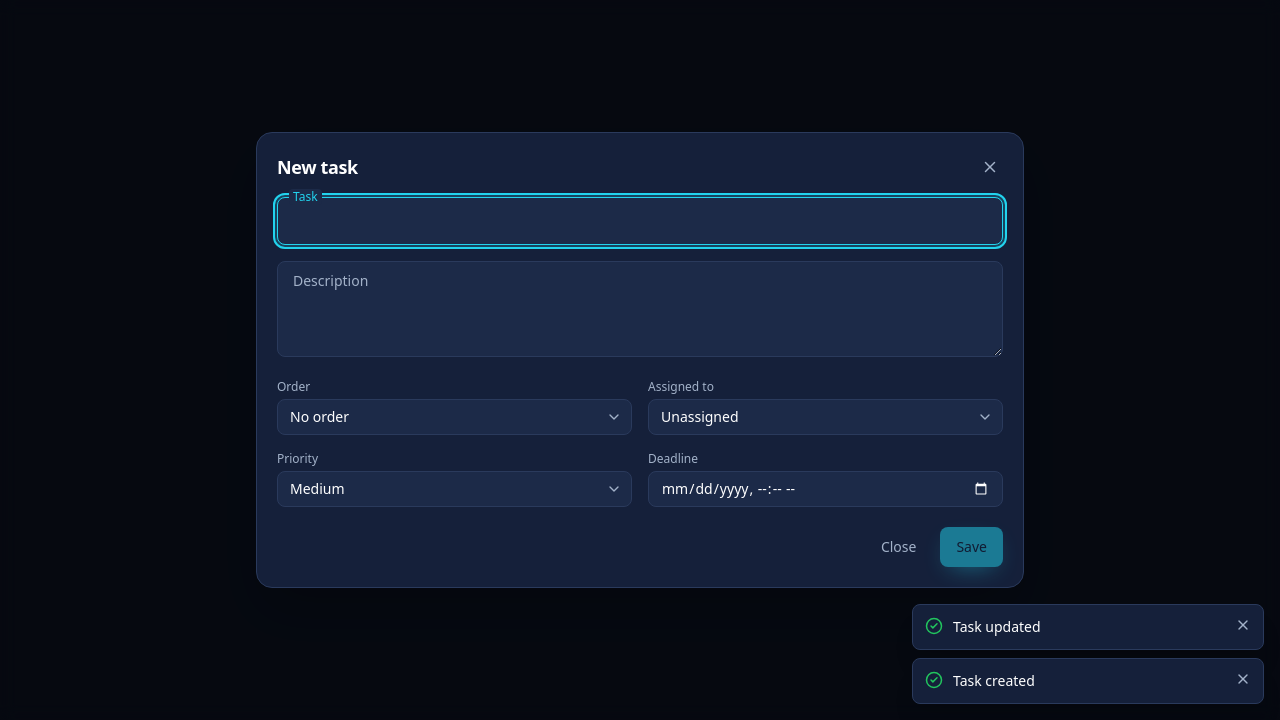
Test case: TaskModal › shows server validation errors and keeps the dialog open
The width and height of the screenshot is (1280, 720).
In the field labelled "Task": x=640, y=221 [277,197,1003,245], type "x"
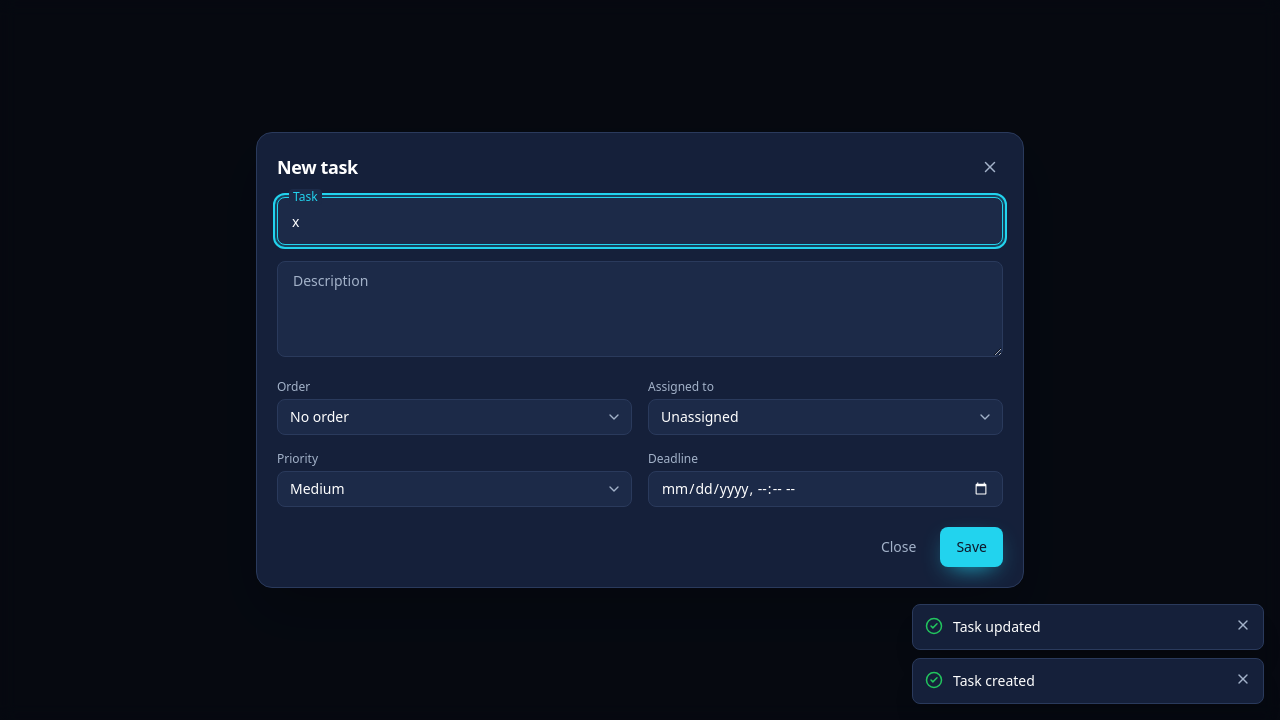
Click the button "Save": x=972, y=547 [940,527,1003,567]
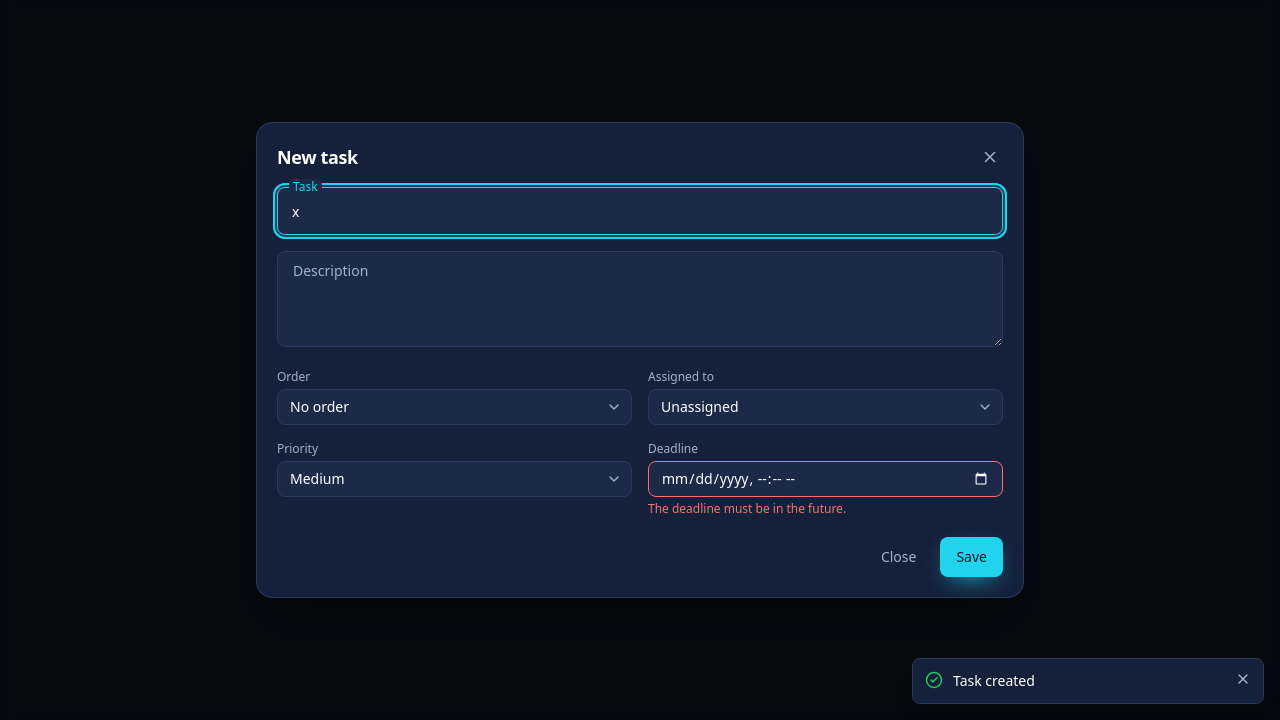
Expected: the text "The deadline must be in the future." is shown, [648,500,846,517]
